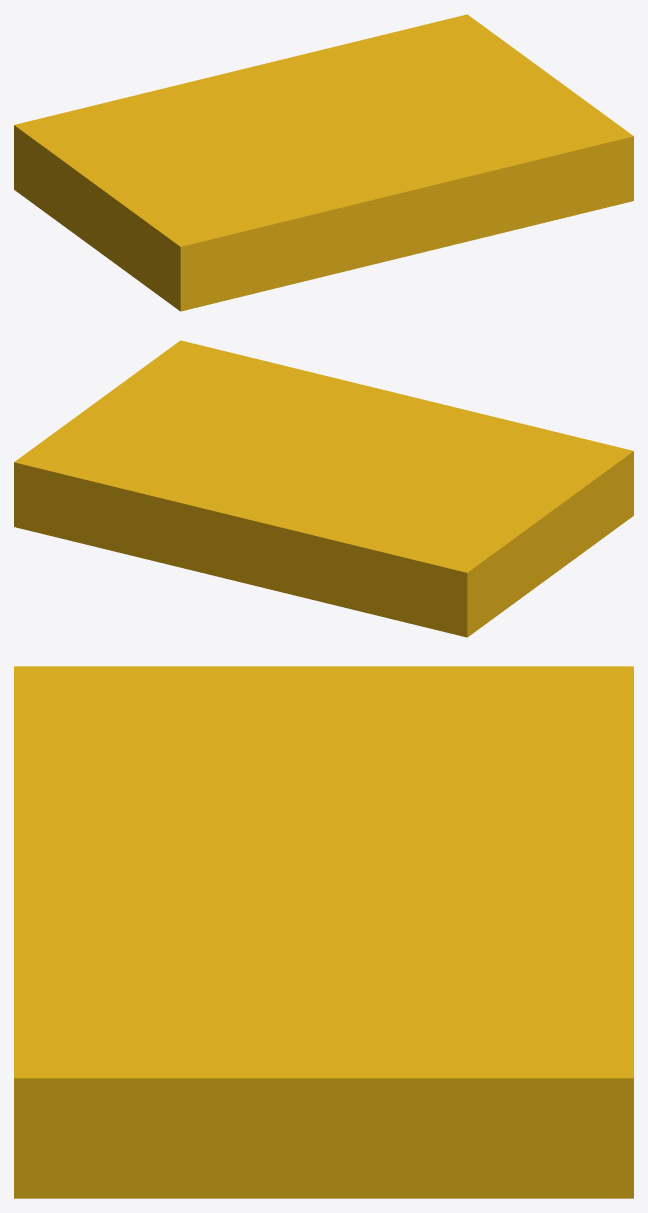
File: prop_keycard_yellow_glow.glb
The picture shows the model from 3 angles, top to bottom: view 1: azimuth 30°, elevation 25°; view 2: azimuth 150°, elevation 25°; view 3: azimuth 270°, elevation 25°; orthographic projection. The views are drawn at different scales.
Visible parts, largest first — view 1: prop_keycard_yellow_glow; view 2: prop_keycard_yellow_glow; view 3: prop_keycard_yellow_glow.
Part boxes in pixels (x1,y1,x2,y2): prop_keycard_yellow_glow: (14, 14, 633, 311); prop_keycard_yellow_glow: (14, 340, 633, 637); prop_keycard_yellow_glow: (14, 666, 633, 1198).
Bounding box in the file's own units: 0.22 × 0.03 × 0.14.
1 material, 1 textured.
